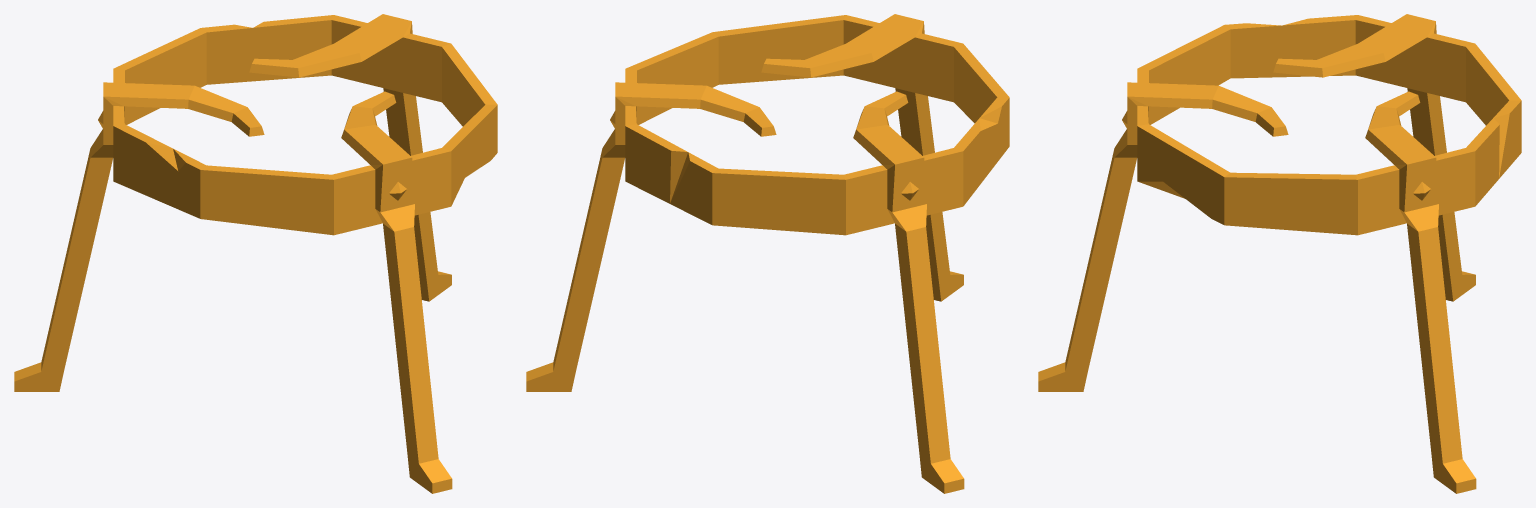
Rendered from SM_Kitchen_Stand_Fantasy.fbx.
3 renders of one model, left to right at view 1: azimuth 30°, elevation 25°; view 2: azimuth 150°, elevation 25°; view 3: azimuth 270°, elevation 25°, orthographic.
Parts seen in each view (by area): view 1: kitchen-stand-fantasy; view 2: kitchen-stand-fantasy; view 3: kitchen-stand-fantasy.
Boxes of the visible parts, x1,y1,x2,y2 form: kitchen-stand-fantasy: (14, 14, 497, 493); kitchen-stand-fantasy: (526, 14, 1009, 493); kitchen-stand-fantasy: (1038, 14, 1521, 493).
Bounding box in the file's own units: 0.451 × 0.2932 × 0.4313.
